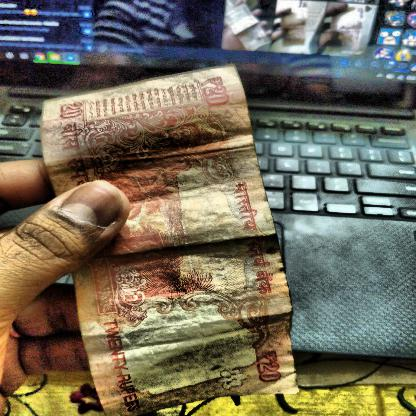Rs20: (248, 347, 287, 388), (194, 73, 235, 110), (57, 97, 87, 123)
